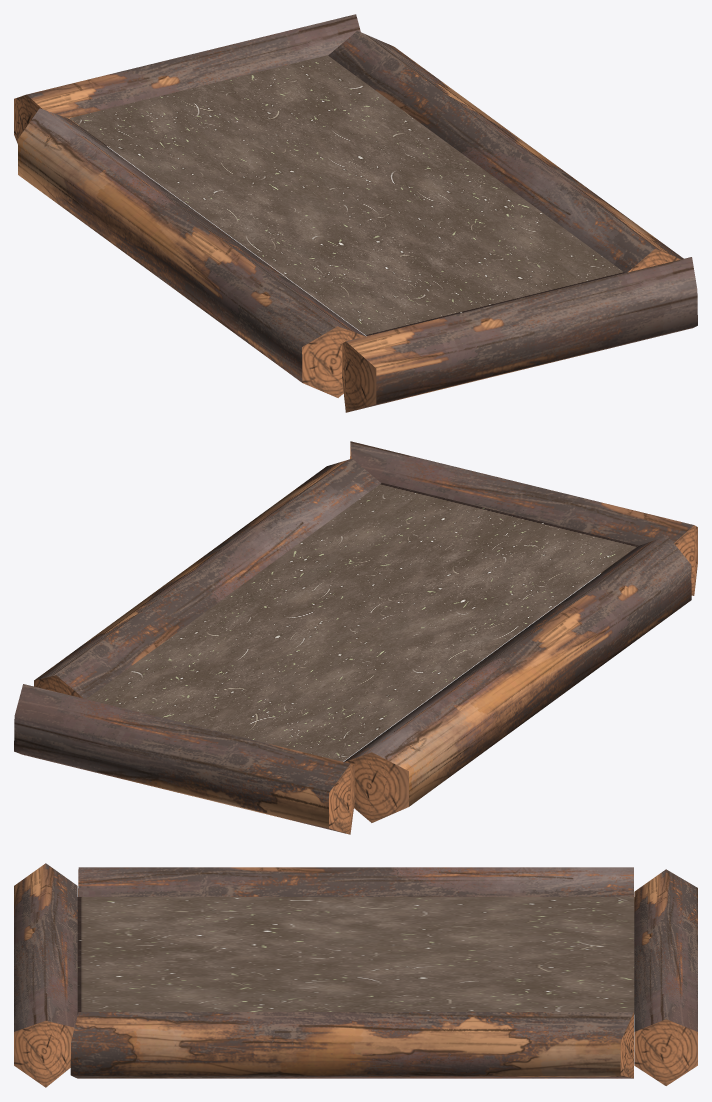
File: raisedBed01.gltf
3 views of the same model, one above another, from view 1: azimuth 30°, elevation 25°; view 2: azimuth 150°, elevation 25°; view 3: azimuth 270°, elevation 25° (orthographic). The views are drawn at different scales.
Parts seen in each view (by area): view 1: raisedBed01; view 2: raisedBed01; view 3: raisedBed01.
Part boxes in pixels (<box>): raisedBed01: <box>14,14,697,412</box>; raisedBed01: <box>14,441,697,834</box>; raisedBed01: <box>14,863,697,1087</box>.
Size of what is drawn, in the model's own units: 2.19 by 0.3966 by 3.69.
2 materials, 2 textured.
